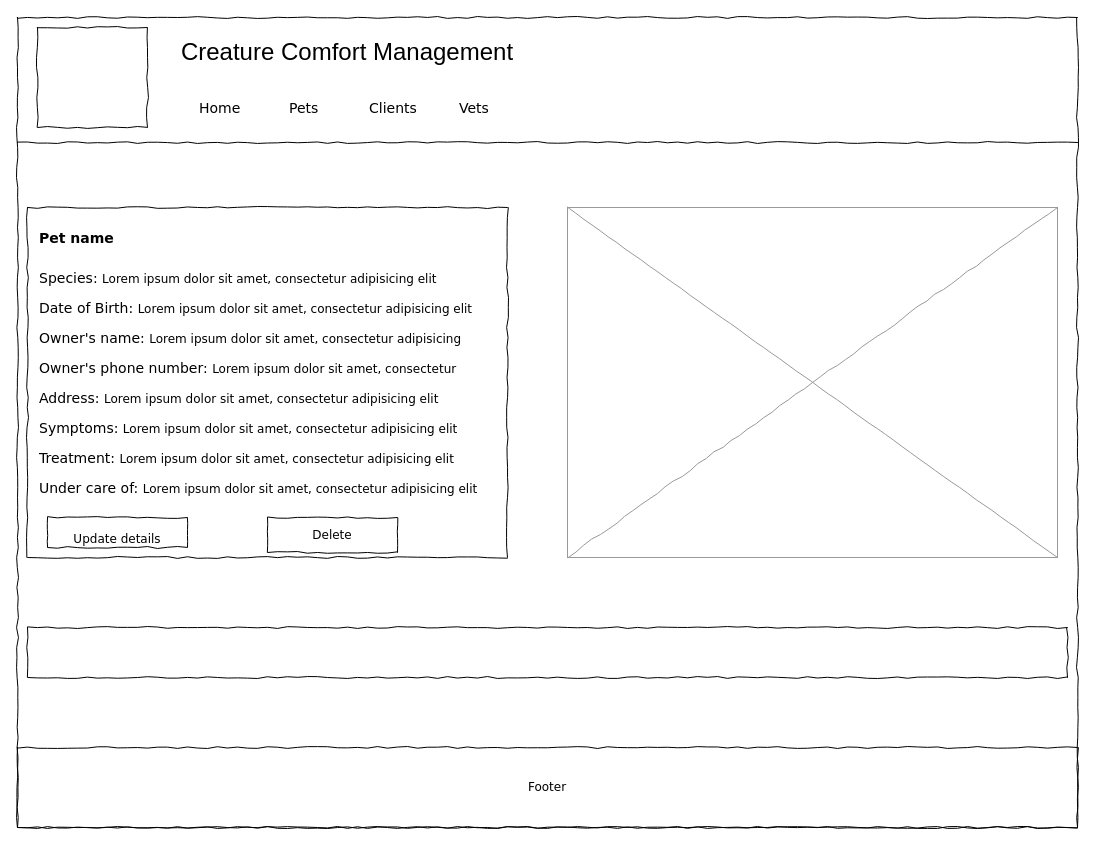
Some shapes in this 1095 by 845 pixel diagram are drawn without their labels. Each missing label, with the box of its shape:
LOGO: (36, 26, 148, 128)
Warning message about deleting entry: (26, 626, 1068, 678)
